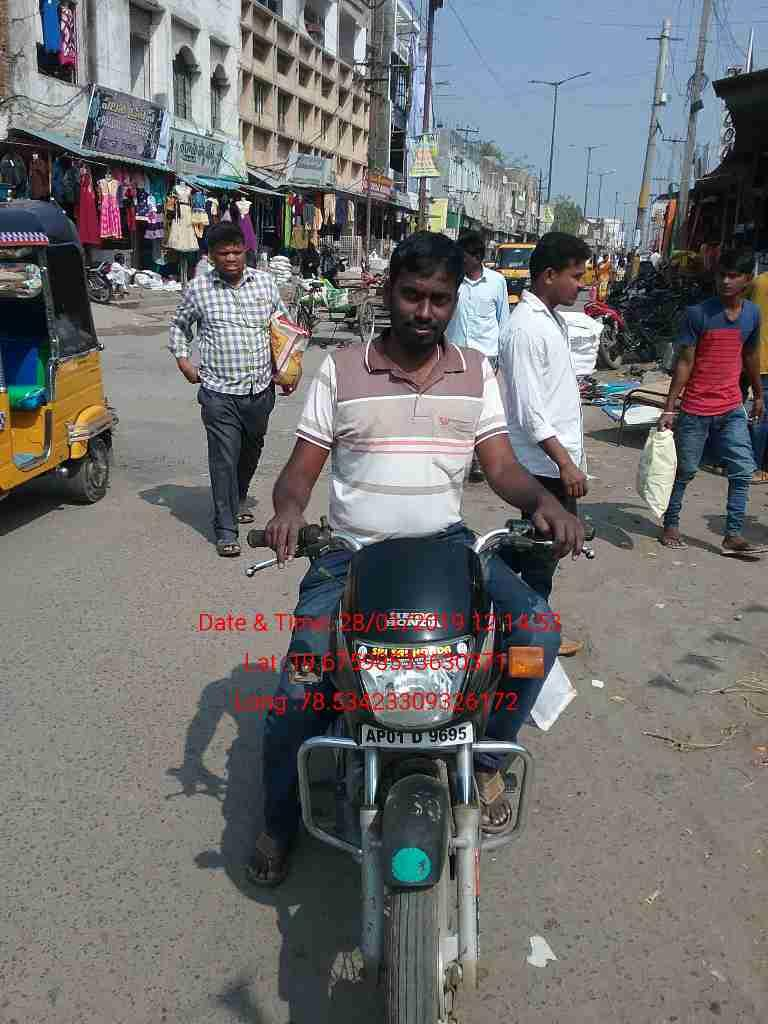plate: (355, 719, 480, 752)
